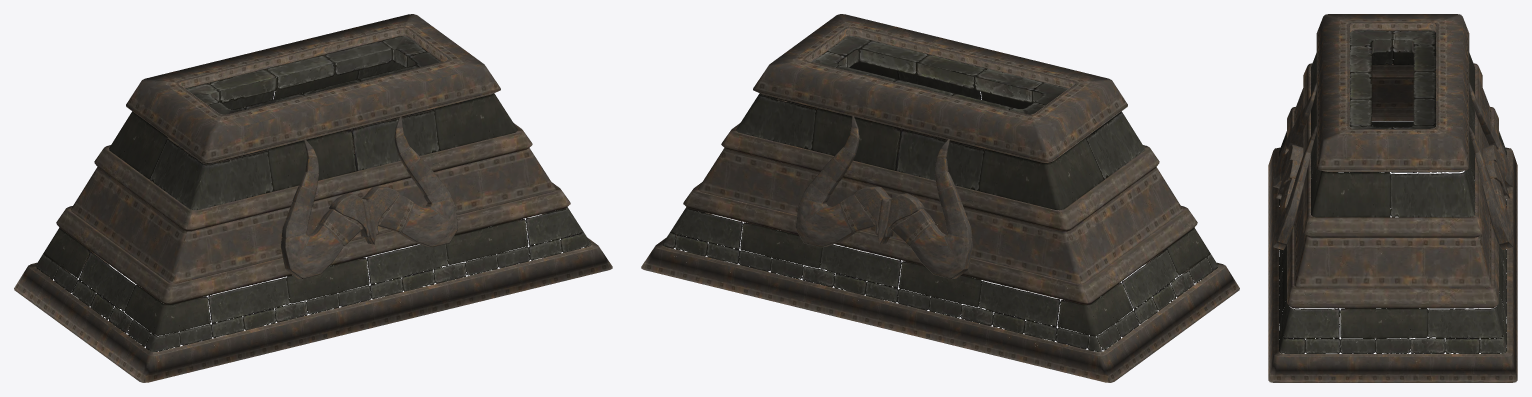
3 views of the same model, side by side, from view 1: azimuth 30°, elevation 25°; view 2: azimuth 150°, elevation 25°; view 3: azimuth 270°, elevation 25° (orthographic). The views are drawn at different scales.
Parts seen in each view (by area): view 1: SM_DR_Lever_01_Base_LOD0; view 2: SM_DR_Lever_01_Base_LOD0; view 3: SM_DR_Lever_01_Base_LOD0.
Part boxes in pixels (box(x1,y1,x2,y2)): SM_DR_Lever_01_Base_LOD0: box(14, 14, 612, 382); SM_DR_Lever_01_Base_LOD0: box(641, 14, 1239, 382); SM_DR_Lever_01_Base_LOD0: box(1268, 14, 1517, 382).
Bounding box in the file's own units: 1.87 × 0.7842 × 0.8997.
Materials: 2 (2 with a texture image).
